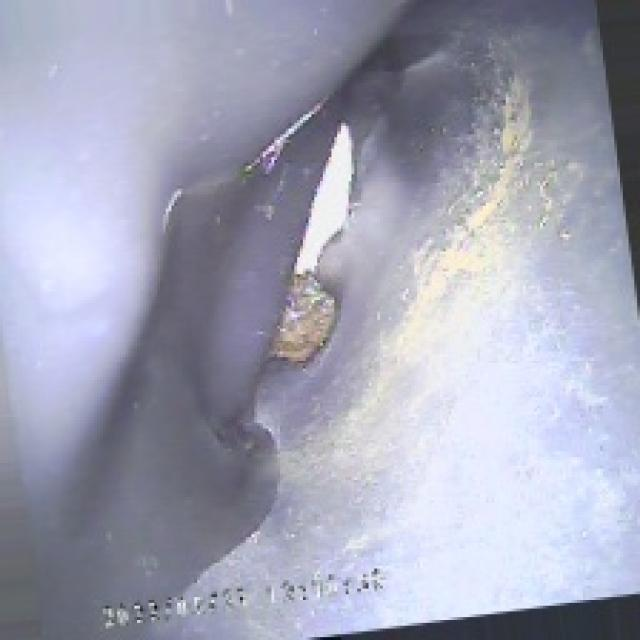shape_deformation: (71, 34, 548, 549)
